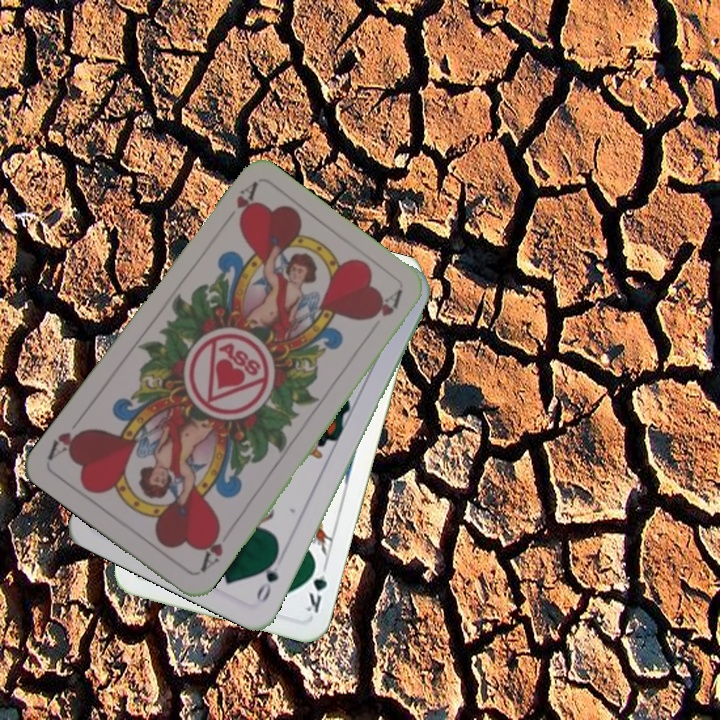GK: (301, 558, 330, 616)
GO: (252, 549, 281, 605)
HA: (217, 179, 260, 231), (195, 522, 226, 576)
